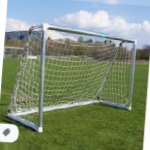goals: (8, 22, 140, 133)
